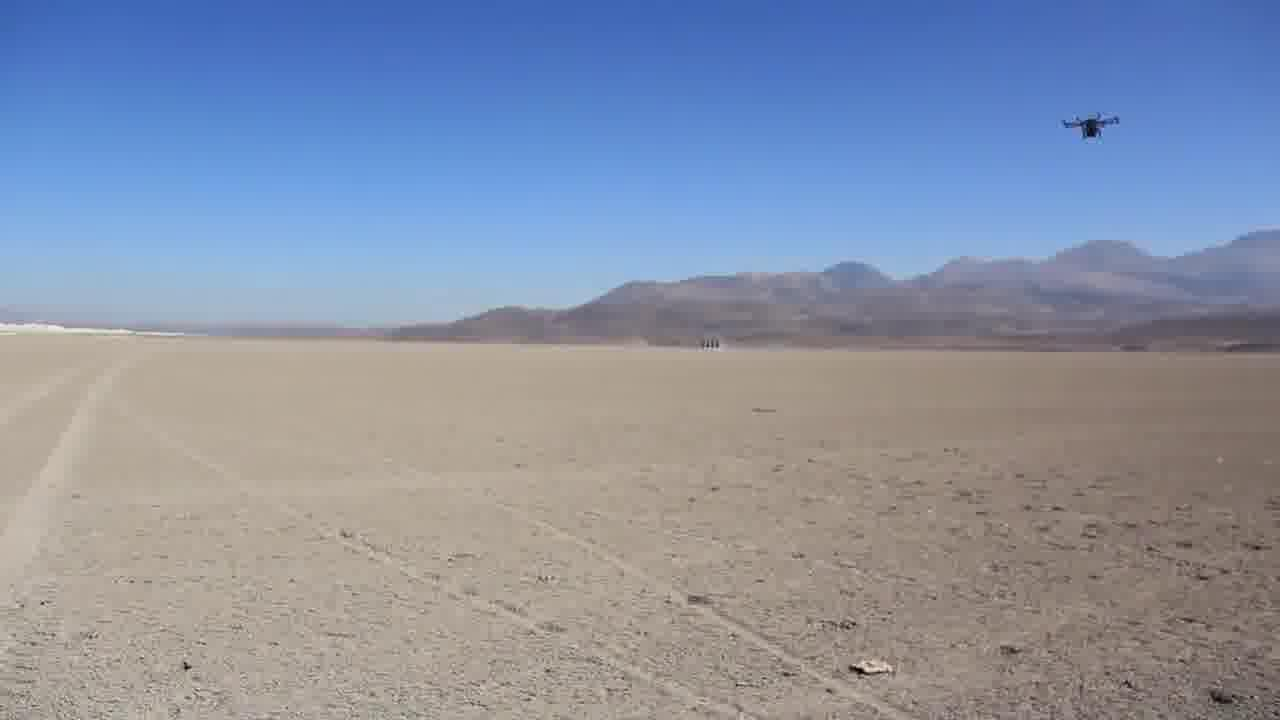Drone: (1051, 100, 1127, 153)
